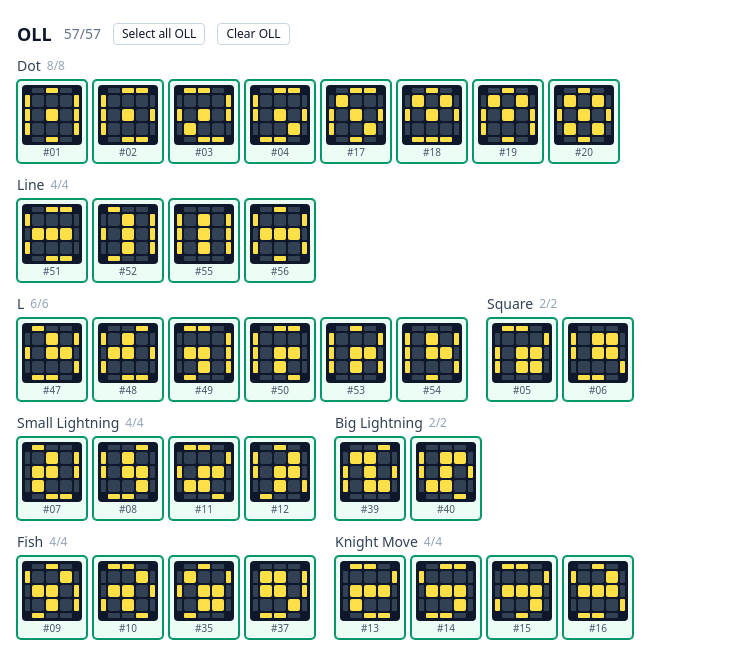
Test: TrainerAlgSet › only ever deals cases from the selected pool
Click the button "Clear OLL".
click(254, 34)  # box [217,23,290,45]
(page scrolled)
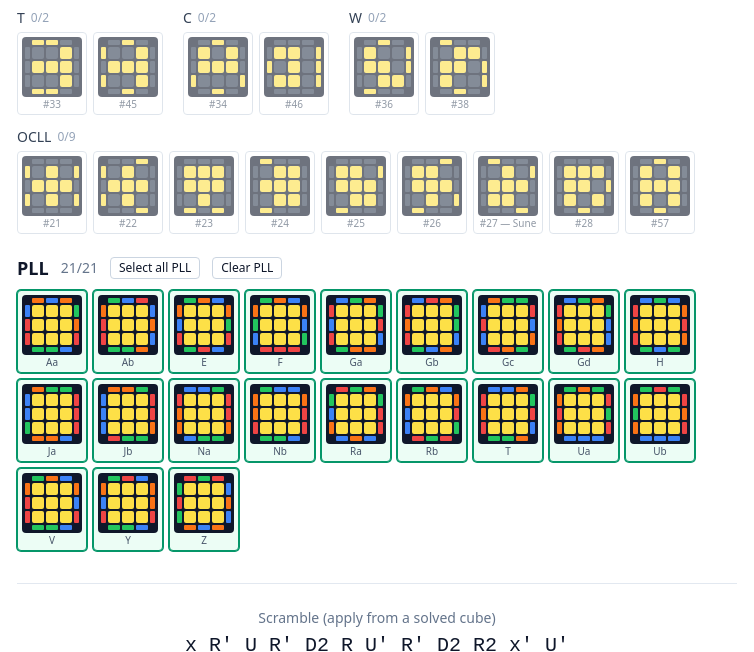
Click the button "Clear PLL".
click(247, 268)  # box [212,257,282,279]
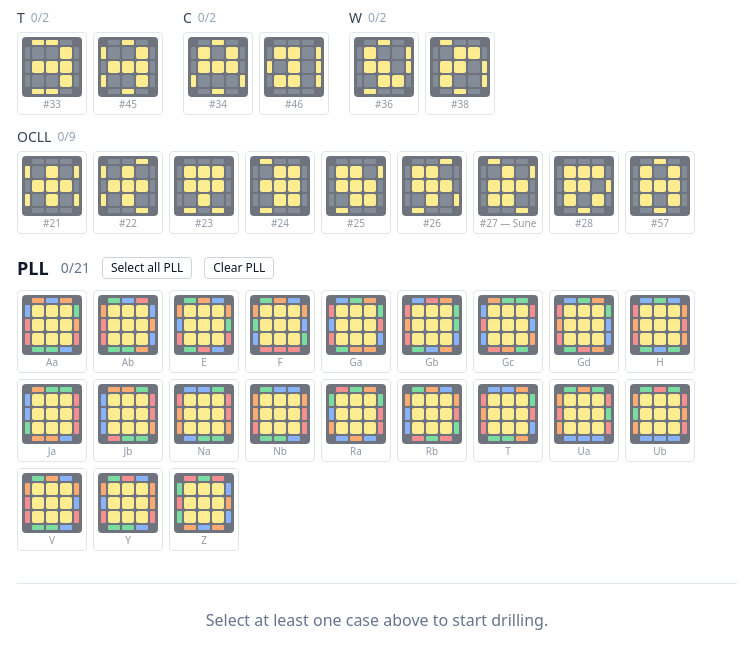
// Select a single case: every scramble must now be that case.
Click the button with aria-label "PLL Aa perm".
click(52, 332)  # box [17,290,87,373]
(page scrolled)
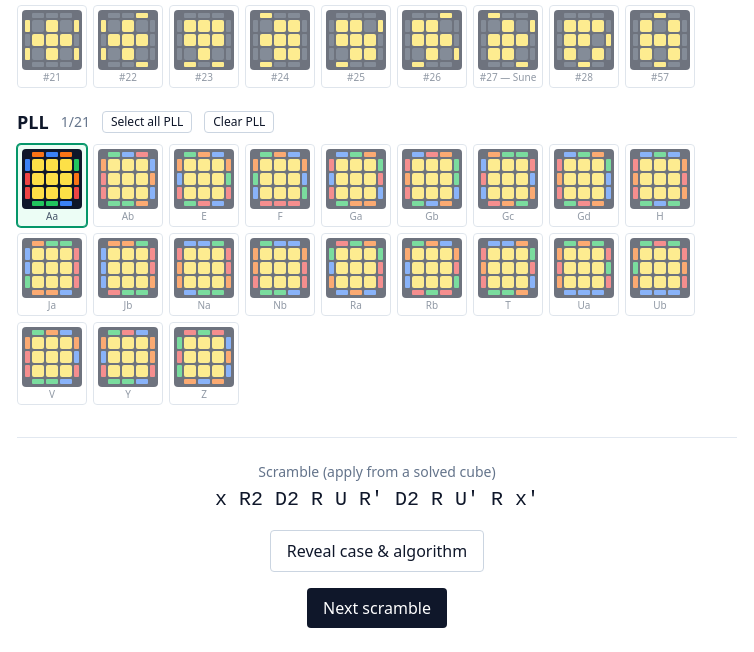
Click the button "Reveal case & algorithm".
click(377, 551)  # box [270,530,484,572]
(page scrolled)
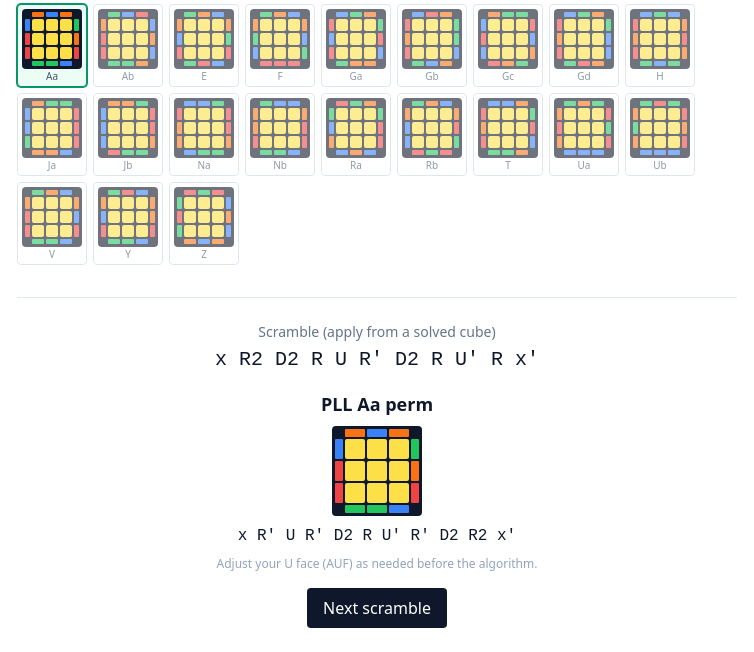
Now the text with test id "reveal-name" reads "PLL Aa perm", box [321,392,433,416]
// Next stays within the (size-1) pool.
Click the button "Next scramble".
click(377, 608)  # box [307,588,447,628]
(page scrolled)
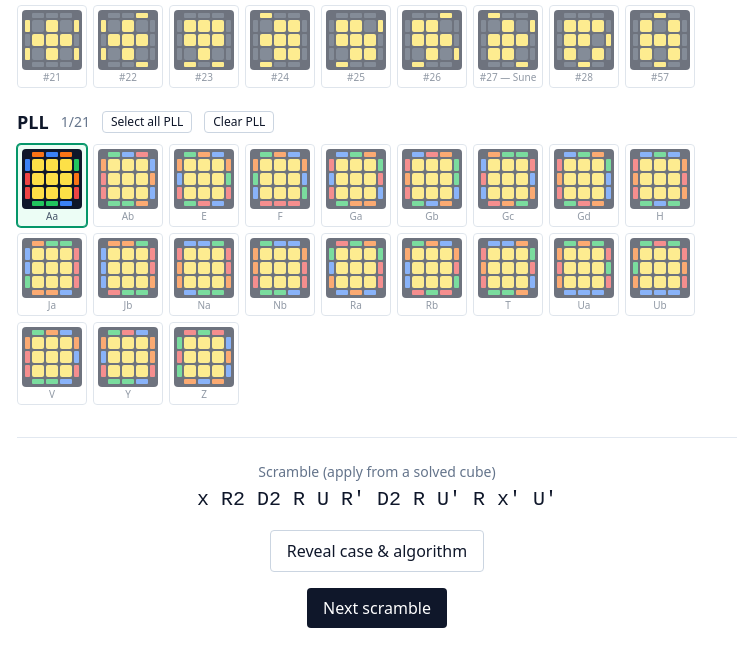
Click the button "Reveal case & algorithm".
click(377, 551)  # box [270,530,484,572]
(page scrolled)
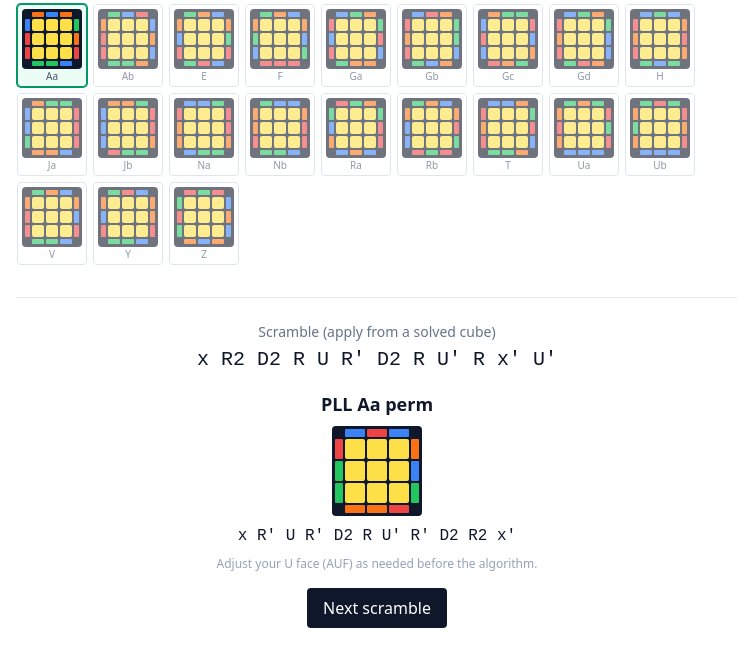
Now the text with test id "reveal-name" reads "PLL Aa perm", box [321,392,433,416]
